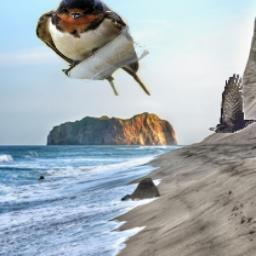Crow: (209, 74, 256, 133)
Swallow: (36, 0, 152, 97)
